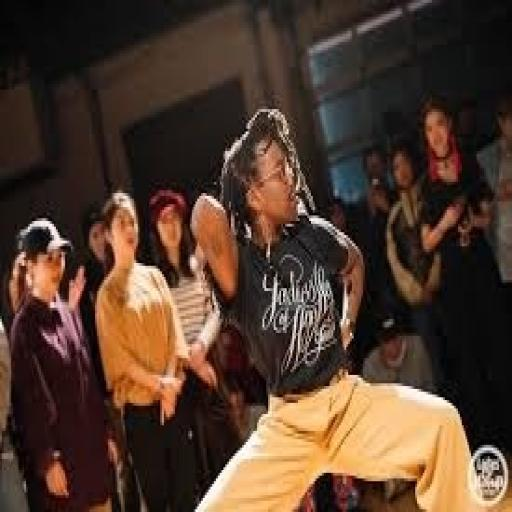dancing: (188, 104, 479, 509)
